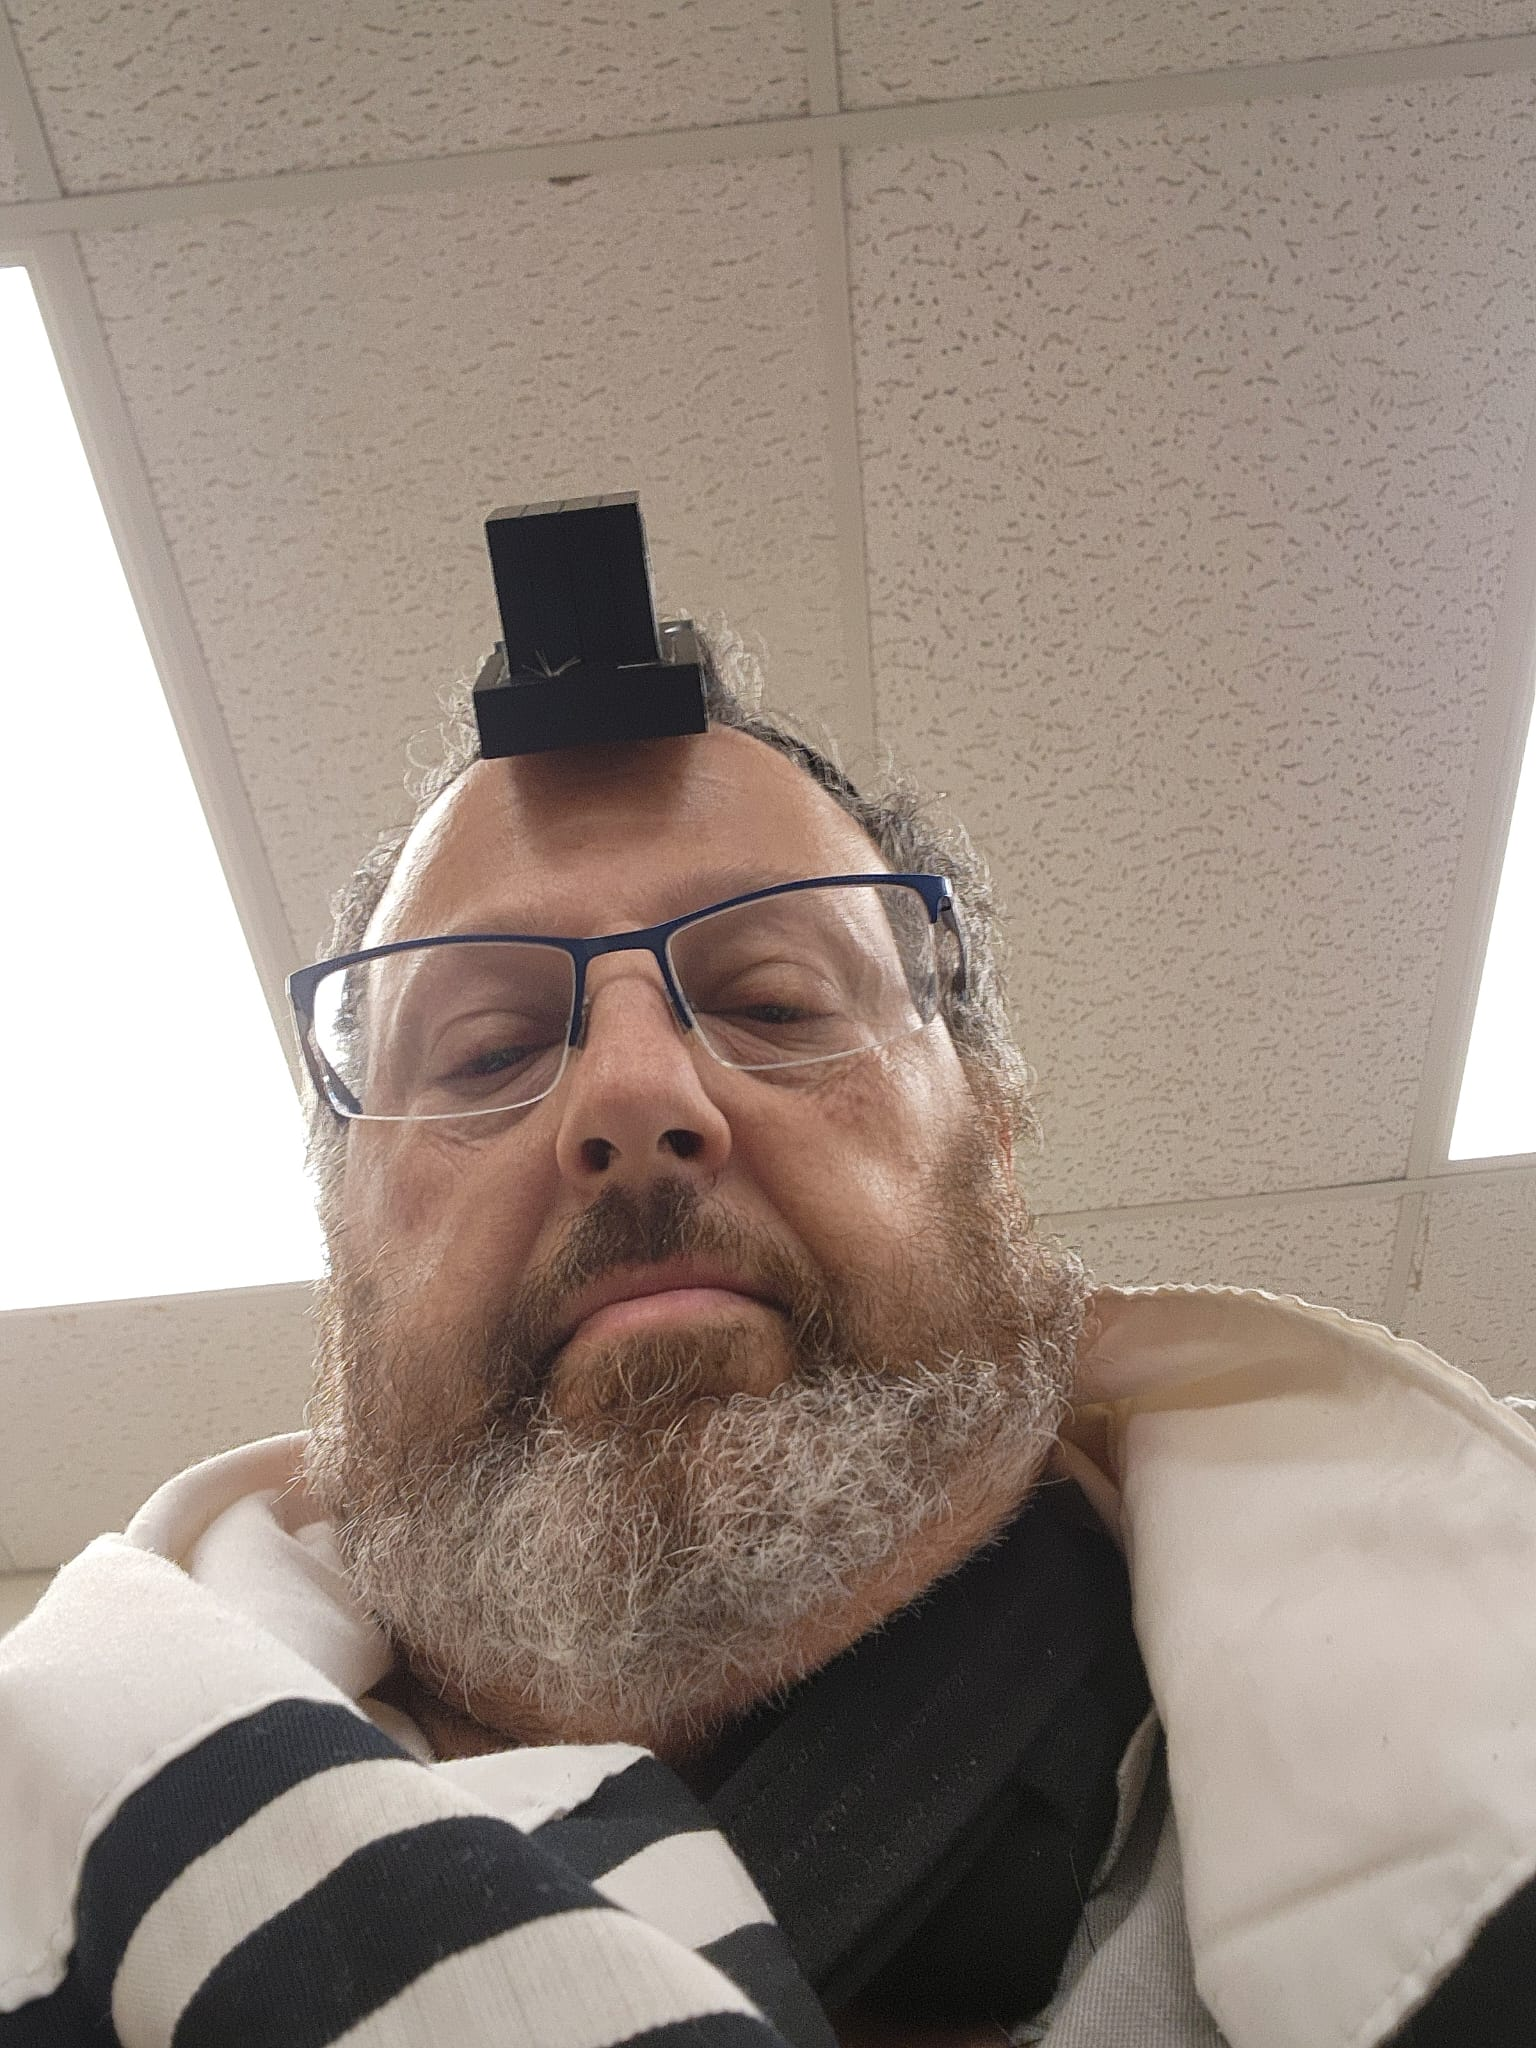tefillin: (465, 497, 712, 753)
